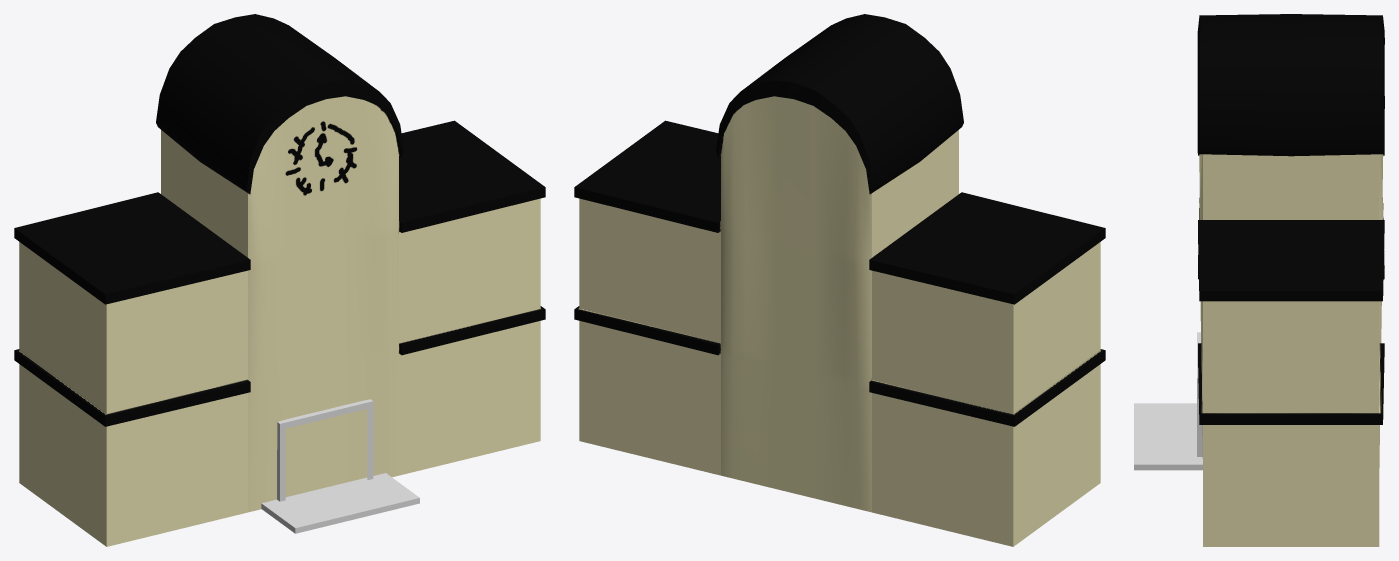
Rendered from colegio.FBX.
3 views of the same model, side by side, from view 1: azimuth 30°, elevation 25°; view 2: azimuth 150°, elevation 25°; view 3: azimuth 270°, elevation 25° (orthographic).
Visible parts, largest first — view 1: Object001, Box001, Box003, Box004; view 2: Object001, Box001; view 3: Object001, Box001, Box003, Box004.
Part boxes in pixels (<box>): Object001: <box>14,120,545,546</box>; Box001: <box>156,14,403,512</box>; Box003: <box>261,473,419,533</box>; Box004: <box>277,399,373,501</box>; Object001: <box>574,120,1105,546</box>; Box001: <box>716,14,963,512</box>; Object001: <box>1198,198,1384,546</box>; Box001: <box>1197,14,1384,467</box>; Box003: <box>1134,403,1202,470</box>; Box004: <box>1197,332,1202,456</box>.
Bounding box in the file's own units: 1748 × 1567 × 853.
